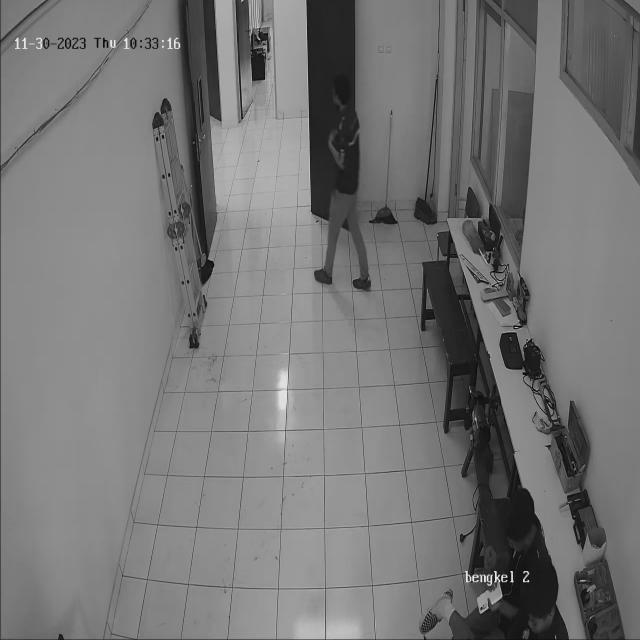person: (321, 63, 372, 322)
